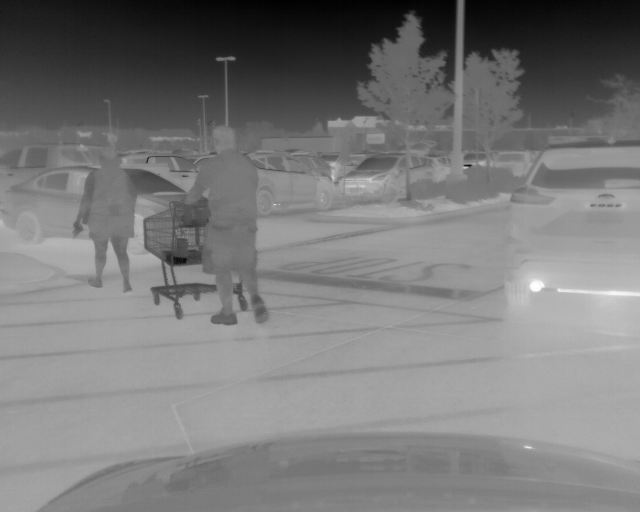car: (502, 140, 640, 309), (3, 165, 200, 254), (247, 149, 336, 213), (336, 151, 438, 204), (2, 143, 102, 183), (122, 151, 199, 191), (490, 148, 537, 179), (461, 150, 494, 172)
people: (193, 125, 270, 325), (70, 145, 136, 294)
